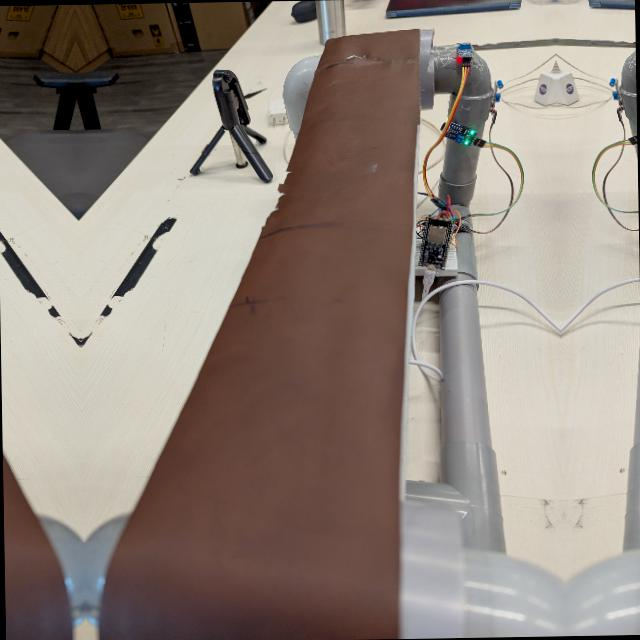edge_damage: (252, 153, 299, 241)
joint_damage: (337, 43, 373, 68)
